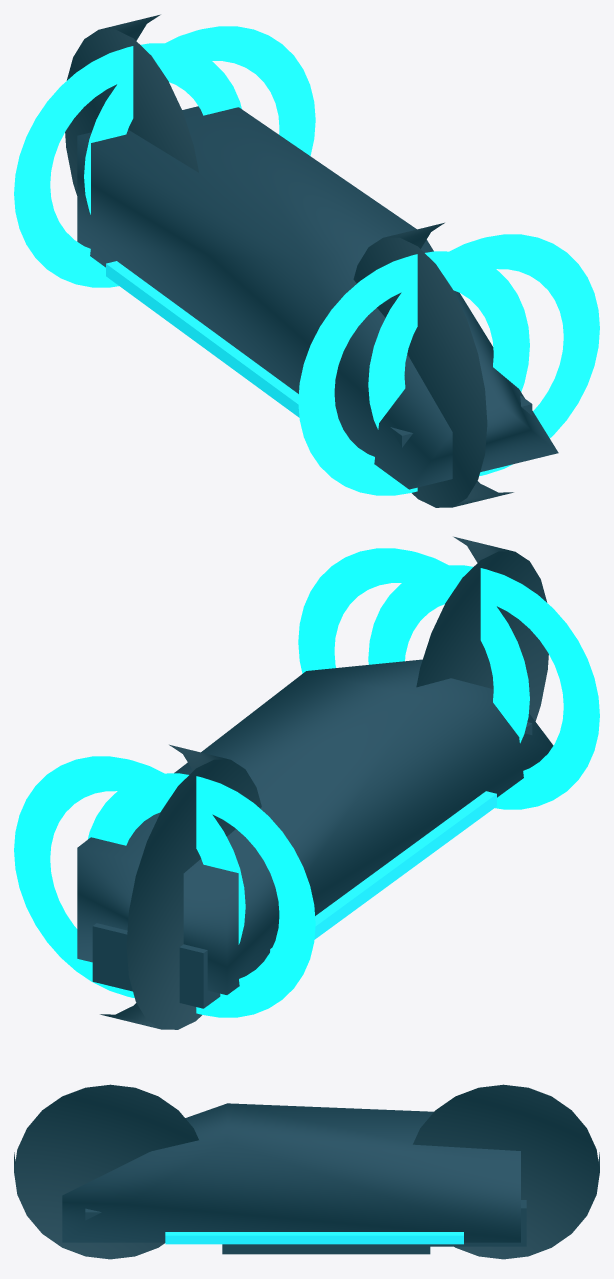
The model's file is light-cycle-asset.gltf.
3 renders of one model, top to bottom at view 1: azimuth 30°, elevation 25°; view 2: azimuth 150°, elevation 25°; view 3: azimuth 270°, elevation 25°, orthographic. The views are drawn at different scales.
Visible parts, largest first — view 1: body_shell, wheel_ring_front_right, wheel_ring_front_left, wheel_front, wheel_ring_rear_right, wheel_ring_rear_left, wheel_rear, side_accent_right; view 2: body_shell, wheel_ring_front_right, wheel_rear, wheel_ring_rear_right, wheel_ring_rear_left, wheel_ring_front_left, wheel_front, side_accent_right, rear_fairing; view 3: body_shell, wheel_rear, wheel_front, side_accent_left, belly_keel, rear_fairing.
Boxes of the visible parts, <box> form: body_shell: <box>77,106,558,489</box>; wheel_ring_front_right: <box>298,251,529,495</box>; wheel_ring_front_left: <box>368,234,599,476</box>; wheel_front: <box>353,222,513,507</box>; wheel_ring_rear_right: <box>14,43,241,287</box>; wheel_ring_rear_left: <box>84,26,315,214</box>; wheel_rear: <box>65,14,198,195</box>; side_accent_right: <box>106,261,299,417</box>; body_shell: <box>77,659,553,994</box>; wheel_ring_front_right: <box>368,565,599,809</box>; wheel_rear: <box>100,744,261,1029</box>; wheel_ring_rear_right: <box>87,773,315,1017</box>; wheel_ring_rear_left: <box>14,756,245,998</box>; wheel_ring_front_left: <box>298,548,529,743</box>; wheel_front: <box>416,536,548,721</box>; side_accent_right: <box>270,791,496,951</box>; rear_fairing: <box>92,923,220,1008</box>; body_shell: <box>62,1103,520,1242</box>; wheel_rear: <box>413,1084,599,1259</box>; wheel_front: <box>14,1084,198,1259</box>; side_accent_left: <box>165,1232,463,1244</box>; belly_keel: <box>222,1244,430,1254</box>; rear_fairing: <box>426,1200,526,1246</box>.
Bounding box in the file's own units: 1.25 × 1 × 3.04.
